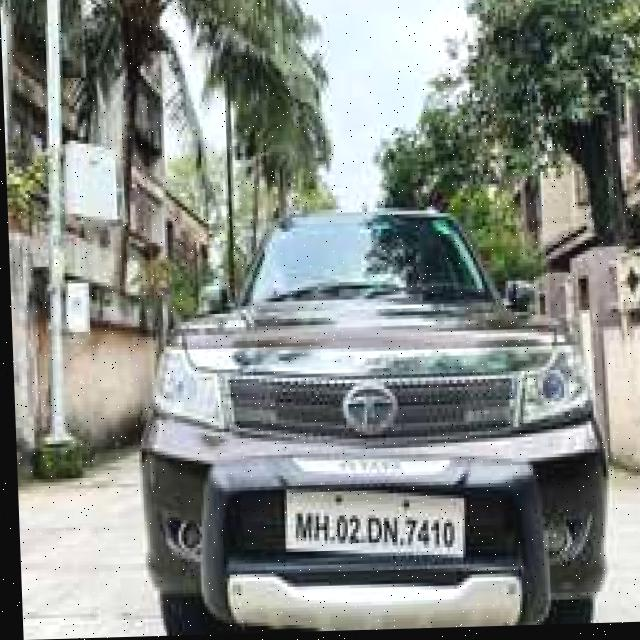plate: (278, 485, 464, 565)
